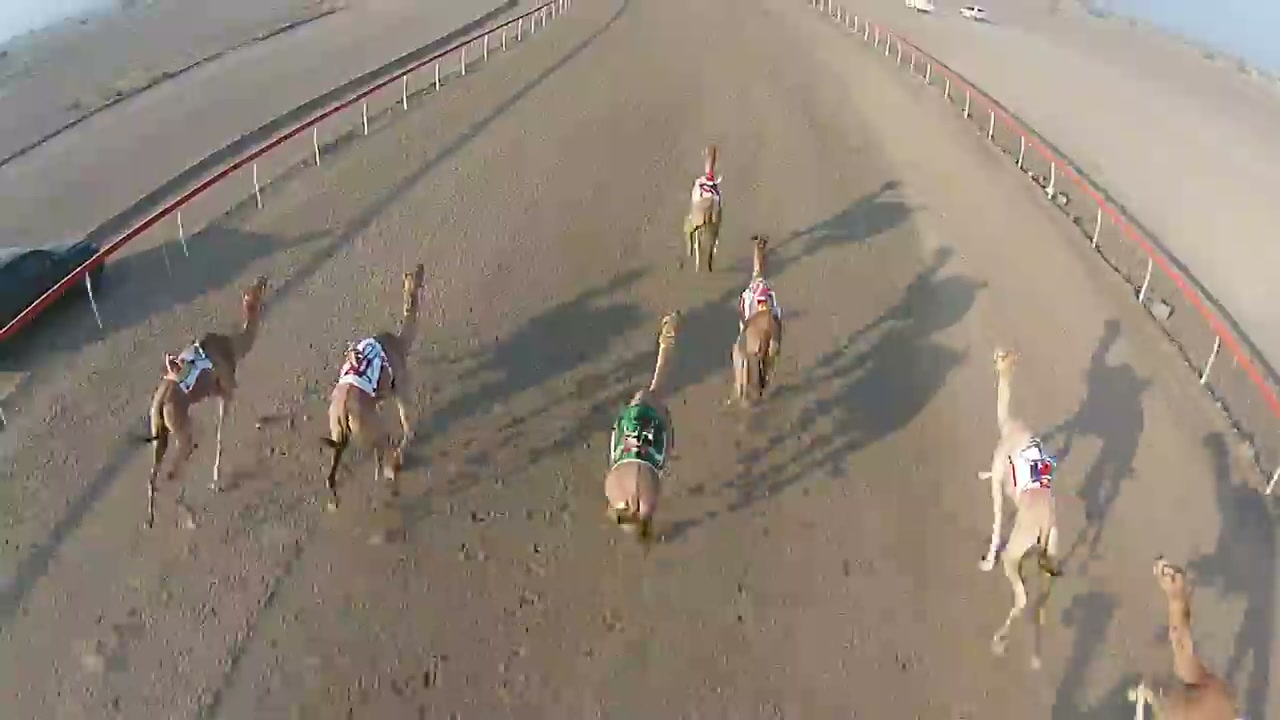animal_footprint: (333, 495, 631, 713)
